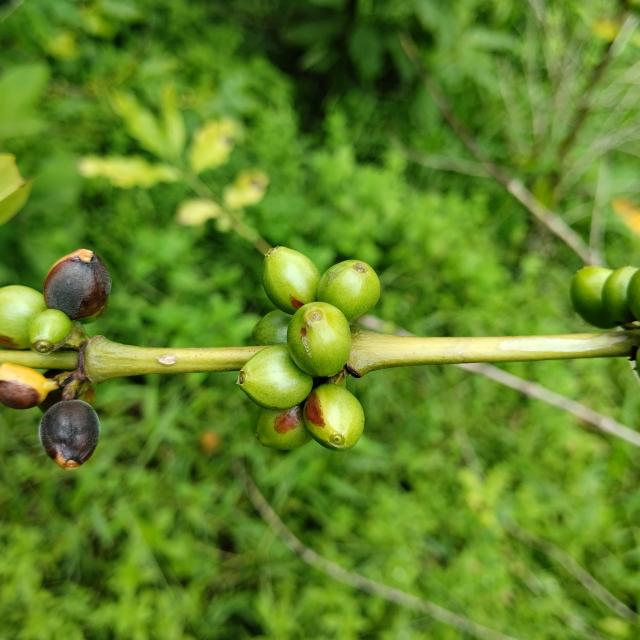green: (237, 346, 313, 410), (287, 302, 351, 377), (303, 384, 365, 451), (263, 246, 321, 314), (317, 260, 381, 321), (571, 266, 618, 329), (0, 285, 46, 349), (256, 404, 312, 450), (603, 266, 640, 324), (27, 309, 72, 355), (252, 309, 293, 346)
red: (42, 249, 111, 320), (38, 400, 99, 470), (0, 363, 59, 409)
